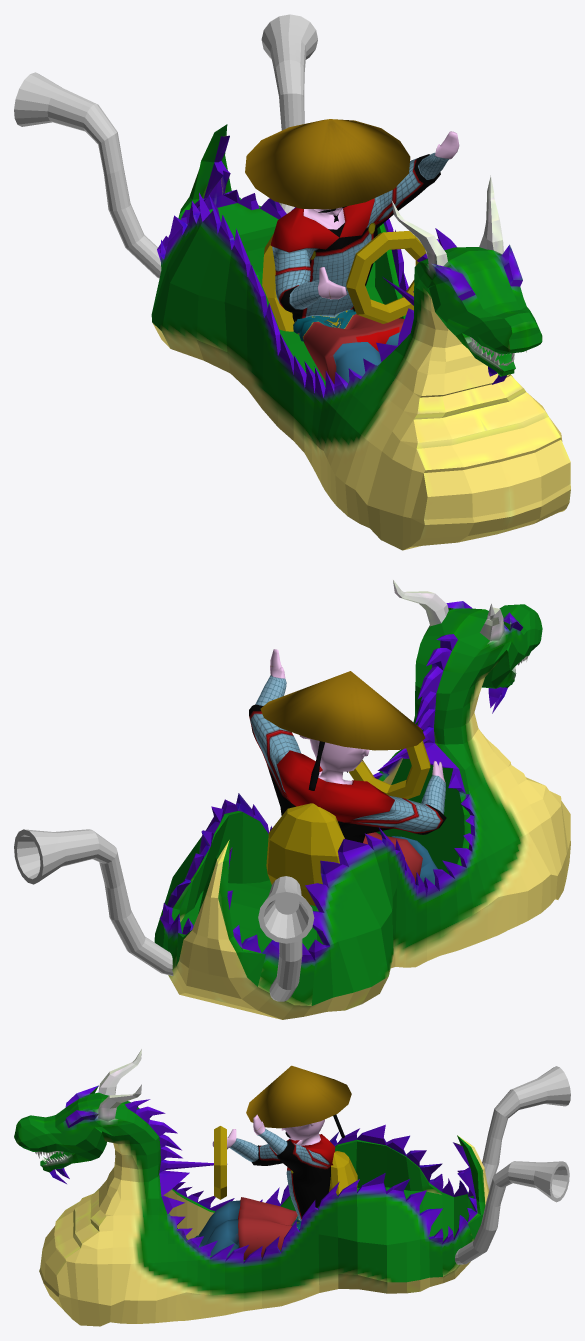
The model's file is Chinovacile_000245.obj.
3 renders of one model, top to bottom at view 1: azimuth 30°, elevation 25°; view 2: azimuth 150°, elevation 25°; view 3: azimuth 270°, elevation 25°, orthographic. The views are drawn at different scales.
Parts seen in each view (by area): view 1: ChasisChino_ChasisChinoH, Chino_ChinoH, Tubos_TubosH, volanteChino_VolanteChinoH, AsientoChinoMalla_AsientoChinoMH; view 2: ChasisChino_ChasisChinoH, Chino_ChinoH, Tubos_TubosH, AsientoChinoMalla_AsientoChinoMH, volanteChino_VolanteChinoH; view 3: ChasisChino_ChasisChinoH, Chino_ChinoH, Tubos_TubosH, volanteChino_VolanteChinoH, AsientoChinoMalla_AsientoChinoMH.
Part boxes in pixels (left/top/right/bottom): ChasisChino_ChasisChinoH: left=151, top=124, right=570, bottom=550; Chino_ChinoH: left=245, top=119, right=459, bottom=383; Tubos_TubosH: left=14, top=14, right=317, bottom=278; volanteChino_VolanteChinoH: left=346, top=231, right=425, bottom=323; AsientoChinoMalla_AsientoChinoMH: left=262, top=233, right=294, bottom=331; ChasisChino_ChasisChinoH: left=154, top=580, right=570, bottom=1019; Chino_ChinoH: left=249, top=649, right=446, bottom=884; Tubos_TubosH: left=14, top=829, right=314, bottom=1001; AsientoChinoMalla_AsientoChinoMH: left=266, top=803, right=344, bottom=906; volanteChino_VolanteChinoH: left=349, top=741, right=430, bottom=799; ChasisChino_ChasisChinoH: left=14, top=1049, right=489, bottom=1326; Chino_ChinoH: left=194, top=1065, right=351, bottom=1259; Tubos_TubosH: left=455, top=1066, right=570, bottom=1264; volanteChino_VolanteChinoH: left=214, top=1126, right=226, bottom=1199; AsientoChinoMalla_AsientoChinoMH: left=329, top=1151, right=357, bottom=1194.
Size of the model in its own units: 6.15 by 6.07 by 13.3.
